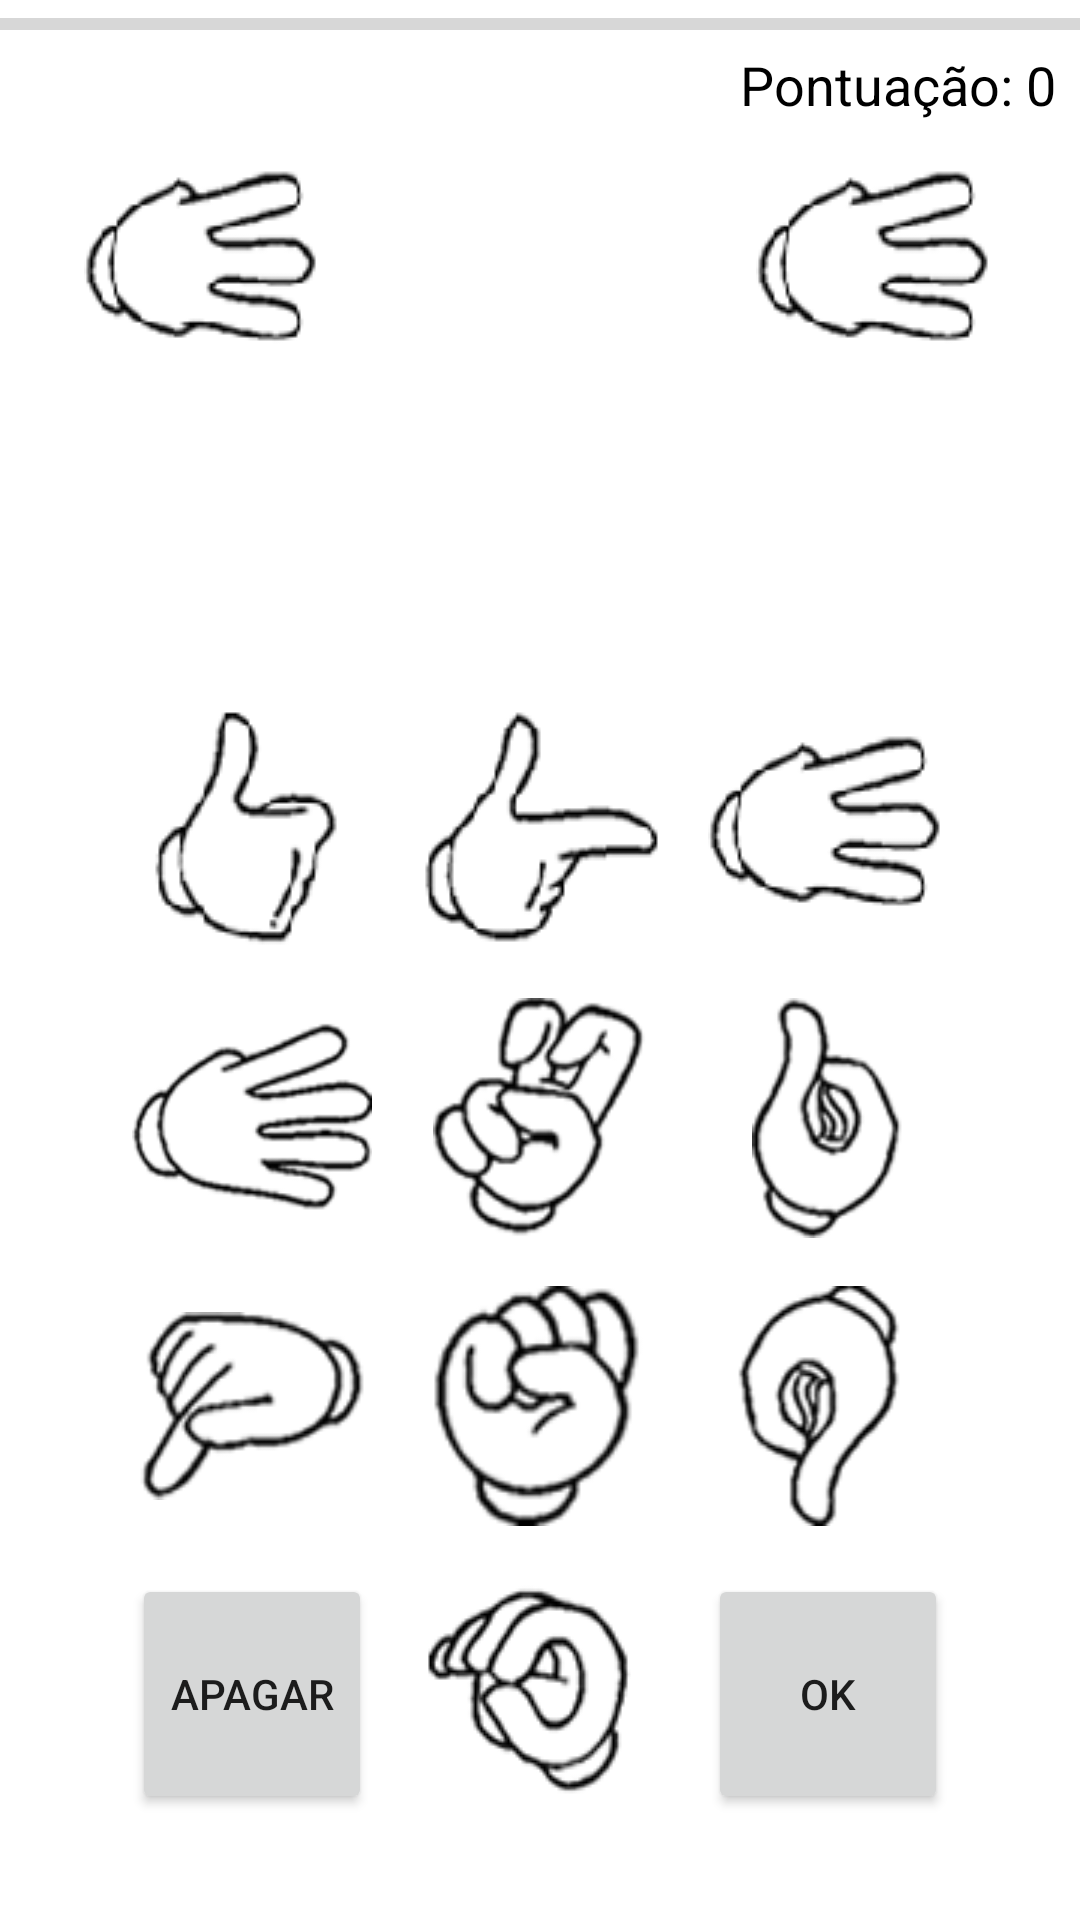

Locate icon controls on the screen. Image size 1080w x 1920h, boxes as (x1, y1, x2, y2).
libras um: (155, 712, 337, 942)
libras zero: (428, 1590, 628, 1791)
